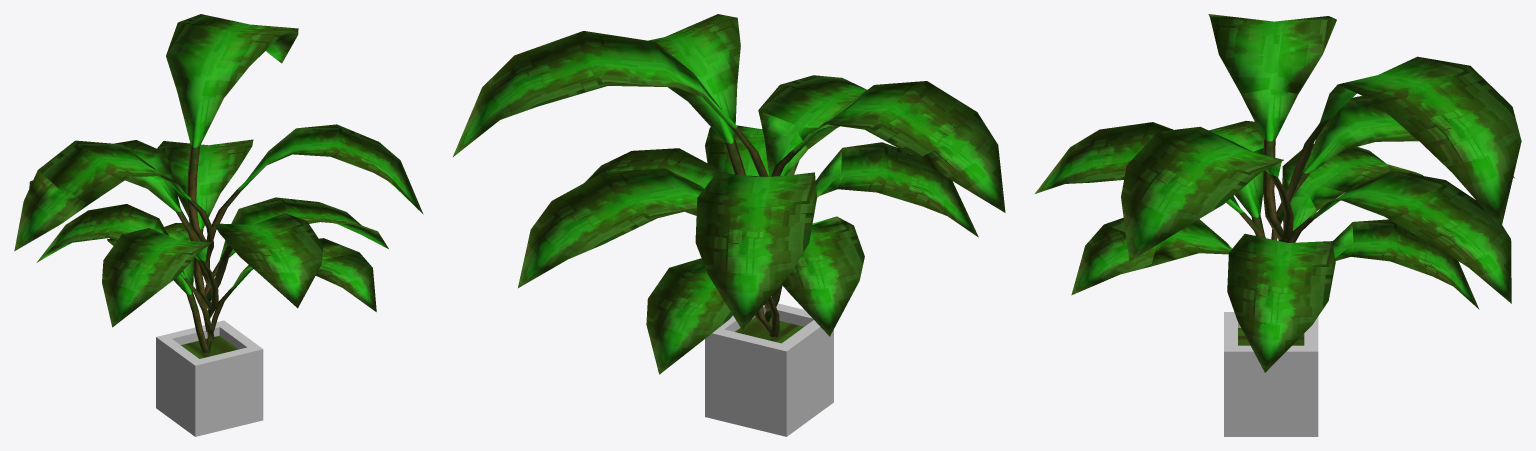
The model's file is sm_plant_big.fbx.
The picture shows the model from 3 angles, left to right: view 1: azimuth 30°, elevation 25°; view 2: azimuth 150°, elevation 25°; view 3: azimuth 270°, elevation 25°; orthographic projection. The views are drawn at different scales.
Parts seen in each view (by area): view 1: sm_plant_big; view 2: sm_plant_big; view 3: sm_plant_big.
Part boxes in pixels (x1,y1,x2,y2): sm_plant_big: (14, 14, 423, 436); sm_plant_big: (453, 14, 1005, 436); sm_plant_big: (1035, 14, 1521, 436).
Bounding box in the file's own units: 291 × 238 × 275.
